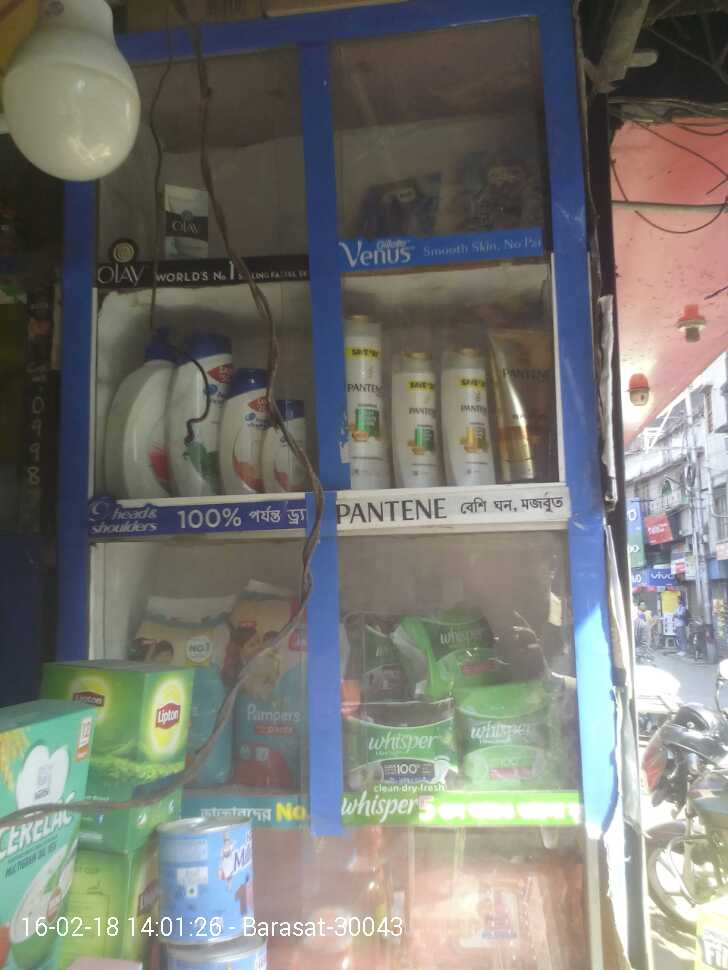venus: (461, 149, 537, 233), (357, 183, 442, 236)
